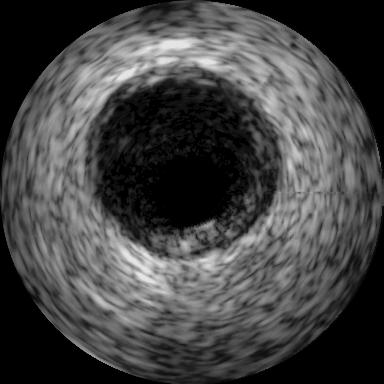Lumen: (150, 153, 237, 234)
